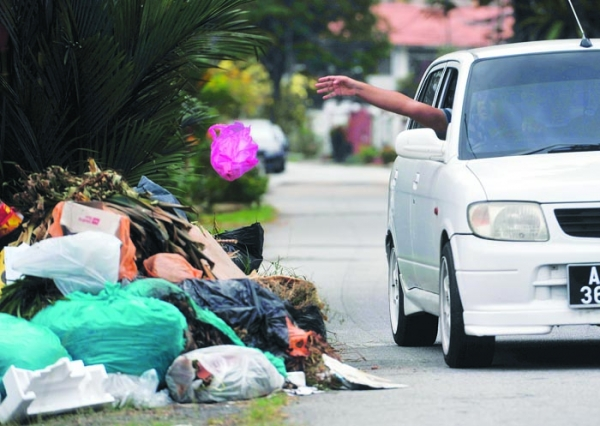trash: (1, 195, 312, 416), (209, 120, 264, 182)
